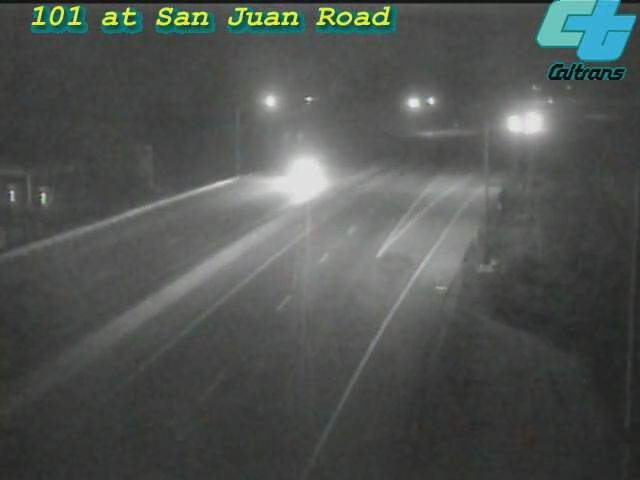vehicle: (258, 133, 338, 213), (502, 106, 552, 156), (488, 98, 538, 148), (507, 96, 557, 146)
